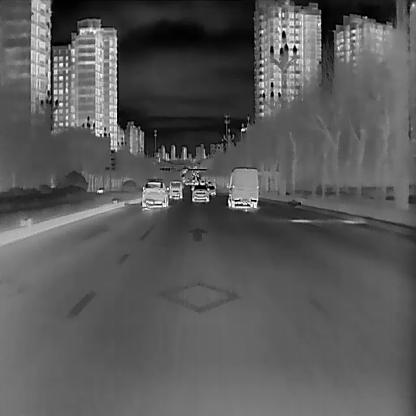car: (225, 167, 257, 209), (140, 180, 168, 209), (189, 184, 209, 200), (168, 180, 182, 199), (207, 184, 216, 196)
